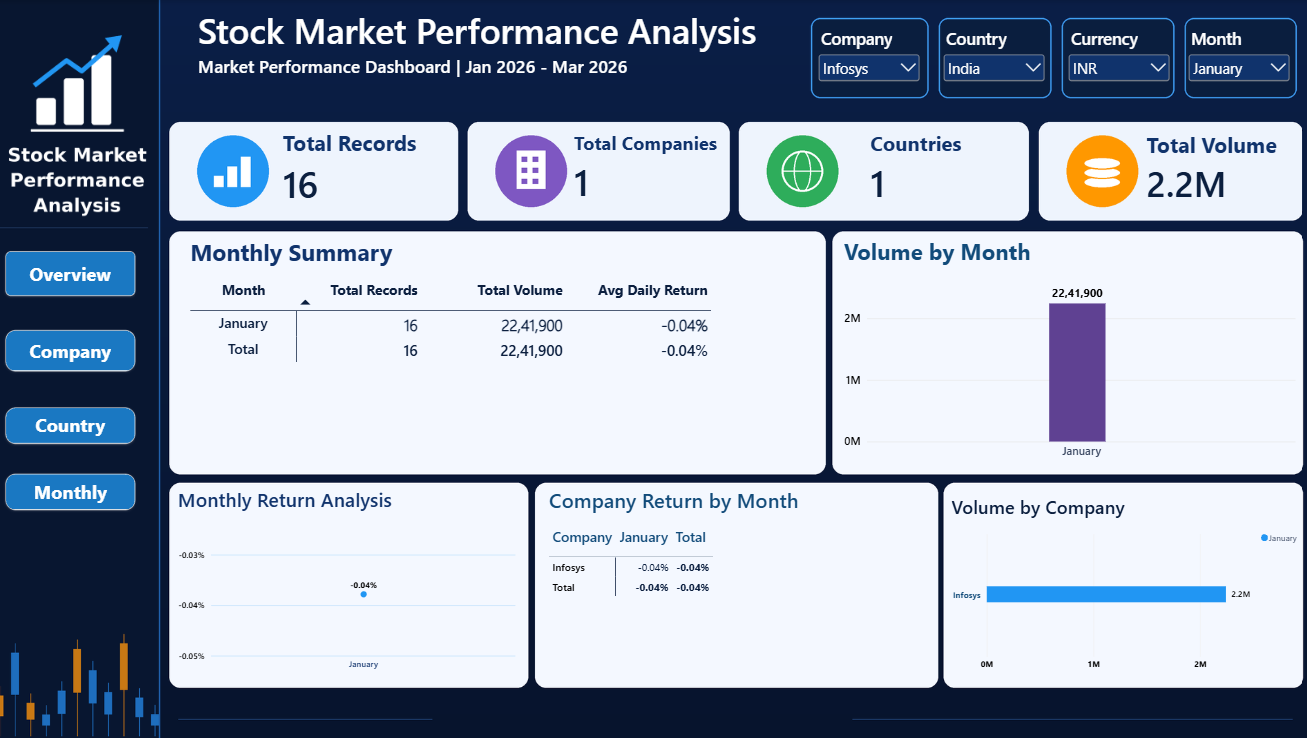

Layout of this report page (visuals, bound fields, positions):
{"tool":"powerbi","page":{"name":"Monthly","canvas":[1920,1080],"ordinal":3},"visuals":[{"type":"slicer","fields":{"Values":["Stock_Clean.Company"]},"box":[1198,39.8,155.6,105],"z":0},{"type":"slicer","fields":{"Values":["Stock_Clean.Country"]},"box":[1379,39.8,155.6,105],"z":1000},{"type":"slicer","fields":{"Values":["Stock_Clean.Currency"]},"box":[1559.9,39.8,155.6,105],"z":2000},{"type":"slicer","fields":{"Values":["Stock_Clean.Month "]},"box":[1733.7,39.8,155.6,105],"z":3000},{"type":"cardVisual","fields":{"Data":["Stock_Clean.Total Records"]},"box":[410.8,161.1,316.7,166.5],"z":4000},{"type":"cardVisual","fields":{"Data":["Stock_Clean.Total Companies"]},"box":[832.4,161.1,316.7,166.5],"z":5000},{"type":"cardVisual","fields":{"Data":["Stock_Clean.Total Countries"]},"box":[1261.3,161.1,316.7,166.5],"z":6000},{"type":"cardVisual","fields":{"Data":["Stock_Clean.Total Volume"]},"box":[1661.3,161.1,258.8,166.5],"z":7000},{"type":"clusteredColumnChart","title":"Volume by Month","fields":{"Category":["Stock_Clean.Month "],"Y":["Stock_Clean.Total Volume"]},"box":[1223.3,327.5,685.9,358.3],"z":8000},{"type":"pivotTable","title":"Monthly Summary","fields":{"Rows":["Stock_Clean.Month "],"Values":["Stock_Clean.Total Records","Stock_Clean.Total Volume","Stock_Clean.Avg Daily Return"]},"box":[276.9,327.5,839.7,316.7],"z":9000},{"type":"lineChart","title":"Monthly Return  Analysis","fields":{"Category":["Stock_Clean.Month "],"Y":["Stock_Clean.Avg Daily Return"]},"box":[258.8,689.5,521.2,300.4],"z":10000},{"type":"barChart","title":"Volume by Company","fields":{"Category":["Stock_Clean.Company"],"Series":["Stock_Clean.Month "],"Y":["Stock_Clean.Total Volume"]},"box":[1379,700.3,541.1,289.5],"z":11000},{"type":"pivotTable","title":"Company Return by Month","fields":{"Columns":["Stock_Clean.Month "],"Rows":["Stock_Clean.Company"],"Values":["Stock_Clean.Avg Daily Return"]},"box":[796.3,689.5,582.7,300.4],"z":12000},{"type":"textbox","title":"Stock Market Performance Analysis","box":[304,9,850.5,164.7],"z":13000},{"type":"image","box":[0,18.1,258.8,345.6],"z":14000},{"type":"actionButton","box":[25.3,363.7,188.2,65.1],"z":18001},{"type":"actionButton","box":[25.3,477.8,188.2,59.7],"z":18002},{"type":"actionButton","box":[25.3,589.9,188.2,52.5],"z":18003},{"type":"actionButton","box":[25.3,685.9,188.2,52.5],"z":18004}]}

Visuals, with their boxes in screenshot pixels (x1, y1, x2, y2), scaled from the page's 1920x1080 canvas onto the 1307x738 screenshot:
slicer - Stock_Clean.Company: pyautogui.locateOnScreen(816, 27, 921, 99)
slicer - Stock_Clean.Country: pyautogui.locateOnScreen(939, 27, 1045, 99)
slicer - Stock_Clean.Currency: pyautogui.locateOnScreen(1062, 27, 1168, 99)
slicer - Stock_Clean.Month : pyautogui.locateOnScreen(1180, 27, 1286, 99)
cardVisual - Stock_Clean.Total Records: pyautogui.locateOnScreen(280, 110, 495, 224)
cardVisual - Stock_Clean.Total Companies: pyautogui.locateOnScreen(567, 110, 782, 224)
cardVisual - Stock_Clean.Total Countries: pyautogui.locateOnScreen(859, 110, 1074, 224)
cardVisual - Stock_Clean.Total Volume: pyautogui.locateOnScreen(1131, 110, 1306, 224)
"Volume by Month" clusteredColumnChart: pyautogui.locateOnScreen(833, 224, 1300, 469)
"Monthly Summary" pivotTable: pyautogui.locateOnScreen(188, 224, 760, 440)
"Monthly Return  Analysis" lineChart: pyautogui.locateOnScreen(176, 471, 531, 676)
"Volume by Company" barChart: pyautogui.locateOnScreen(939, 479, 1306, 676)
"Company Return by Month" pivotTable: pyautogui.locateOnScreen(542, 471, 939, 676)
"Stock Market Performance Analysis" textbox: pyautogui.locateOnScreen(207, 6, 786, 119)
image: pyautogui.locateOnScreen(0, 12, 176, 249)
actionButton: pyautogui.locateOnScreen(17, 249, 145, 293)
actionButton: pyautogui.locateOnScreen(17, 326, 145, 367)
actionButton: pyautogui.locateOnScreen(17, 403, 145, 439)
actionButton: pyautogui.locateOnScreen(17, 469, 145, 505)
